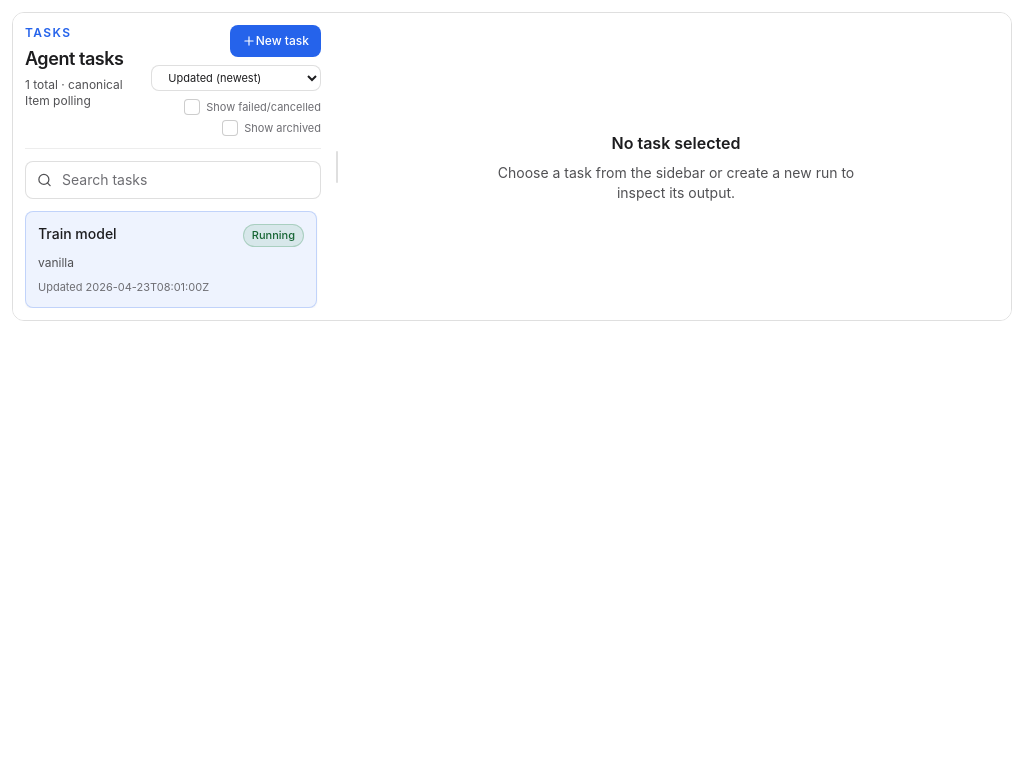
Test case: TasksPage › hides failed and cancelled Tasks by default and reveals them on request
Expected: the button with aria-label "Train model" is shown, [38, 254, 304, 295]
Expected: the button "Failed task" is not shown
Step 1. Click the checkbox named "Show failed/cancelled" next to "Show failed/cancelled" → x=192, y=107, box [184, 99, 200, 115]
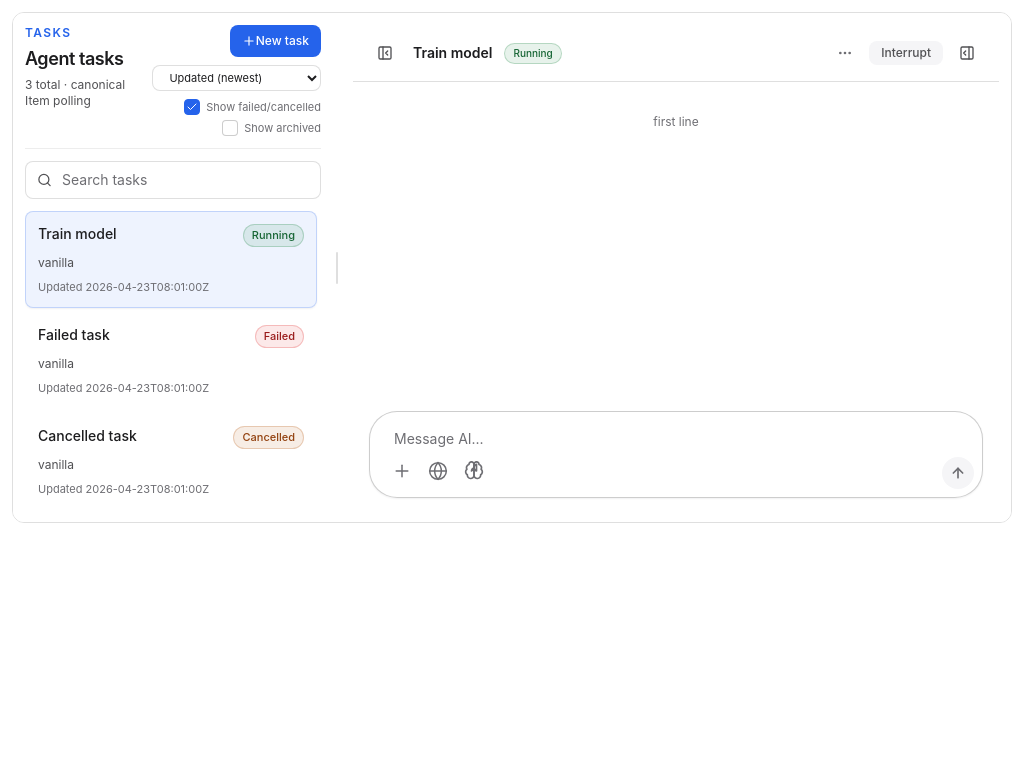
Expected: the button with aria-label "Failed task" is shown, [38, 356, 304, 396]
Expected: the button with aria-label "Cancelled task" is shown, [38, 456, 304, 497]
Expected: the text "3 total · canonical Item polling" is shown, [25, 77, 140, 109]
